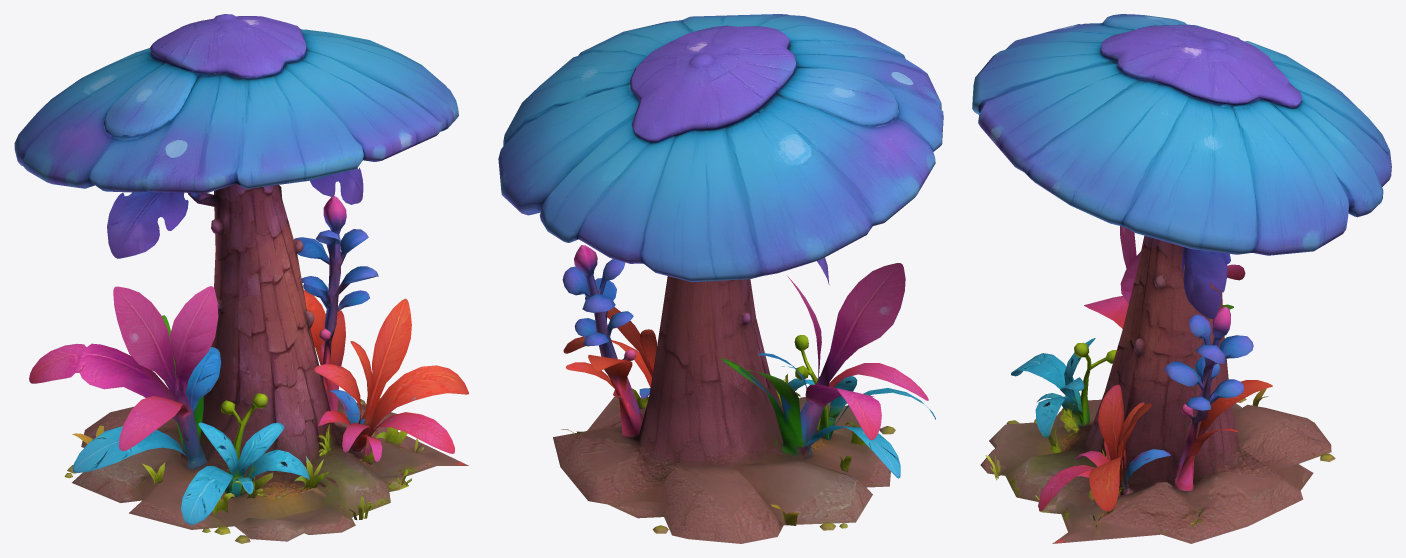
Rendered from fantasy_mushroom_colorful.glb.
3 views of the same model, side by side, from view 1: azimuth 30°, elevation 25°; view 2: azimuth 150°, elevation 25°; view 3: azimuth 270°, elevation 25° (orthographic).
Parts seen in each view (by area): view 1: tripo_node_38238ebd-9c56-42d2-aac6-eaae6e5c8975; view 2: tripo_node_38238ebd-9c56-42d2-aac6-eaae6e5c8975; view 3: tripo_node_38238ebd-9c56-42d2-aac6-eaae6e5c8975.
Boxes of the visible parts, box(x1,y1,x2,y2) form: tripo_node_38238ebd-9c56-42d2-aac6-eaae6e5c8975: box(14, 14, 468, 543); tripo_node_38238ebd-9c56-42d2-aac6-eaae6e5c8975: box(498, 14, 943, 543); tripo_node_38238ebd-9c56-42d2-aac6-eaae6e5c8975: box(972, 14, 1391, 543).
Size of the model in its own units: 0.9497 by 0.999 by 0.894.
Materials: 1 (1 with a texture image).
